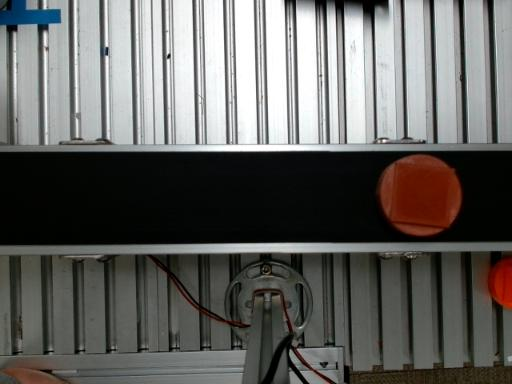Brown_Waper: (376, 154, 462, 236)
Square: (390, 163, 454, 228)
